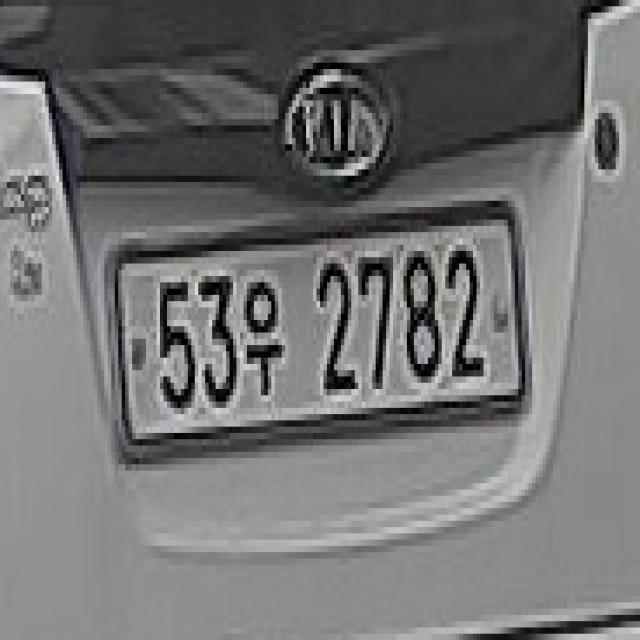2: (442, 239, 497, 414), (303, 251, 358, 408)
3: (192, 264, 236, 414)
5: (143, 264, 198, 414)
7: (352, 245, 396, 395)
8: (400, 232, 445, 408)
license_plate: (97, 182, 529, 477)
u: (233, 257, 289, 402)
